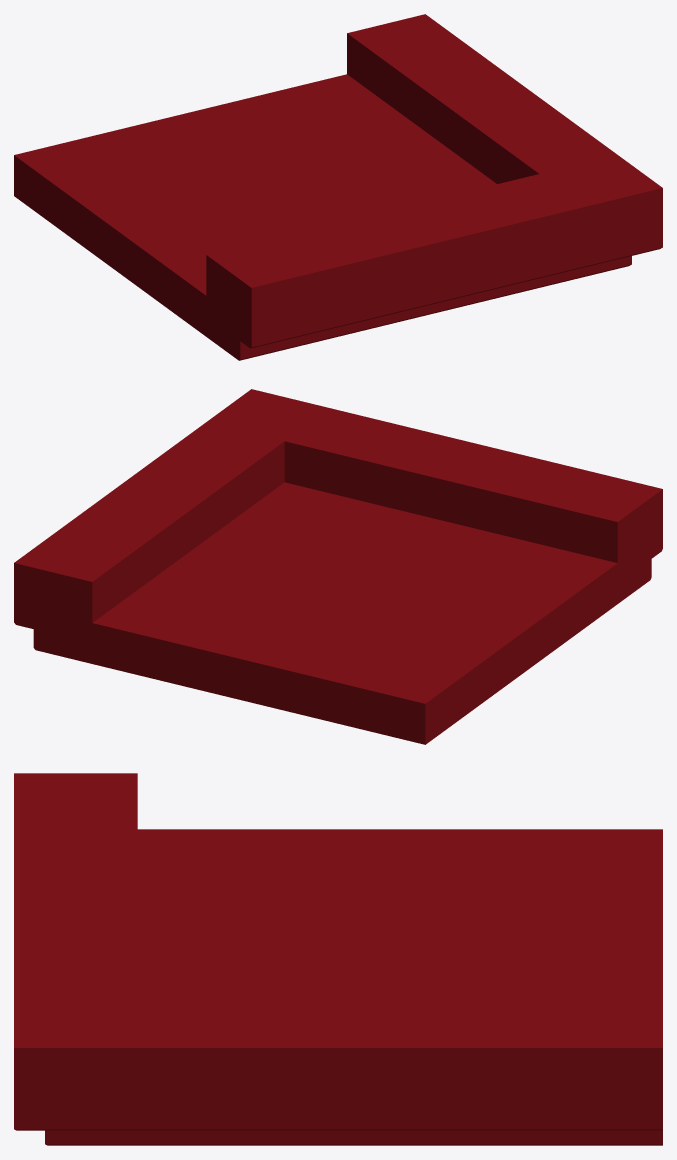
Rendered from SM_MH_01_Wood_Porch_Corner_01.fbx.
3 views of the same model, one above another, from view 1: azimuth 30°, elevation 25°; view 2: azimuth 150°, elevation 25°; view 3: azimuth 270°, elevation 25° (orthographic). The views are drawn at different scales.
Visible parts, largest first — view 1: SM_MH_01_Wood_Porch_Corner_01_LOD0; view 2: SM_MH_01_Wood_Porch_Corner_01_LOD0; view 3: SM_MH_01_Wood_Porch_Corner_01_LOD0.
Boxes of the visible parts, x1,y1,x2,y2 form: SM_MH_01_Wood_Porch_Corner_01_LOD0: [14, 14, 662, 360]; SM_MH_01_Wood_Porch_Corner_01_LOD0: [14, 389, 662, 744]; SM_MH_01_Wood_Porch_Corner_01_LOD0: [14, 773, 662, 1145].
Size of what is drawn, in the model's own units: 105 by 20.1 by 105.
